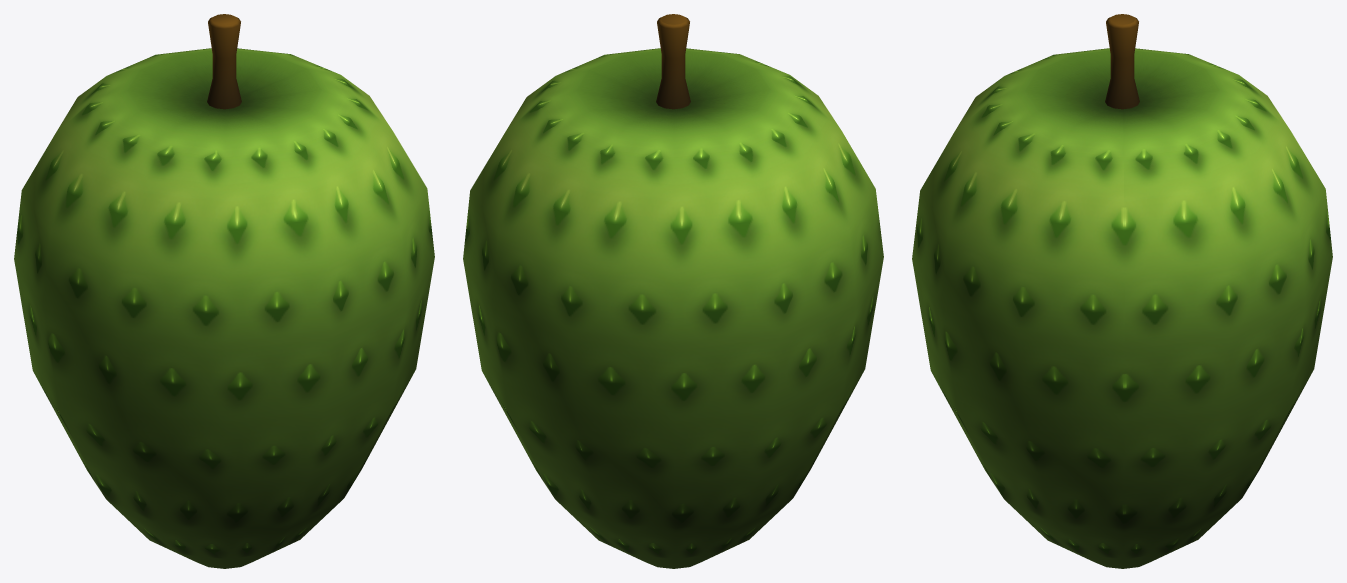
File: Soursop.fbx
The picture shows the model from 3 angles, left to right: view 1: azimuth 30°, elevation 25°; view 2: azimuth 150°, elevation 25°; view 3: azimuth 270°, elevation 25°; orthographic projection.
Parts seen in each view (by area): view 1: Soursop; view 2: Soursop; view 3: Soursop.
Part boxes in pixels (box(x1,y1,x2,y2)): Soursop: box(14, 14, 434, 568); Soursop: box(463, 14, 883, 568); Soursop: box(912, 14, 1332, 568).
Size of the model in its own units: 43.85 by 63.08 by 43.85.
1 material, 1 textured.
